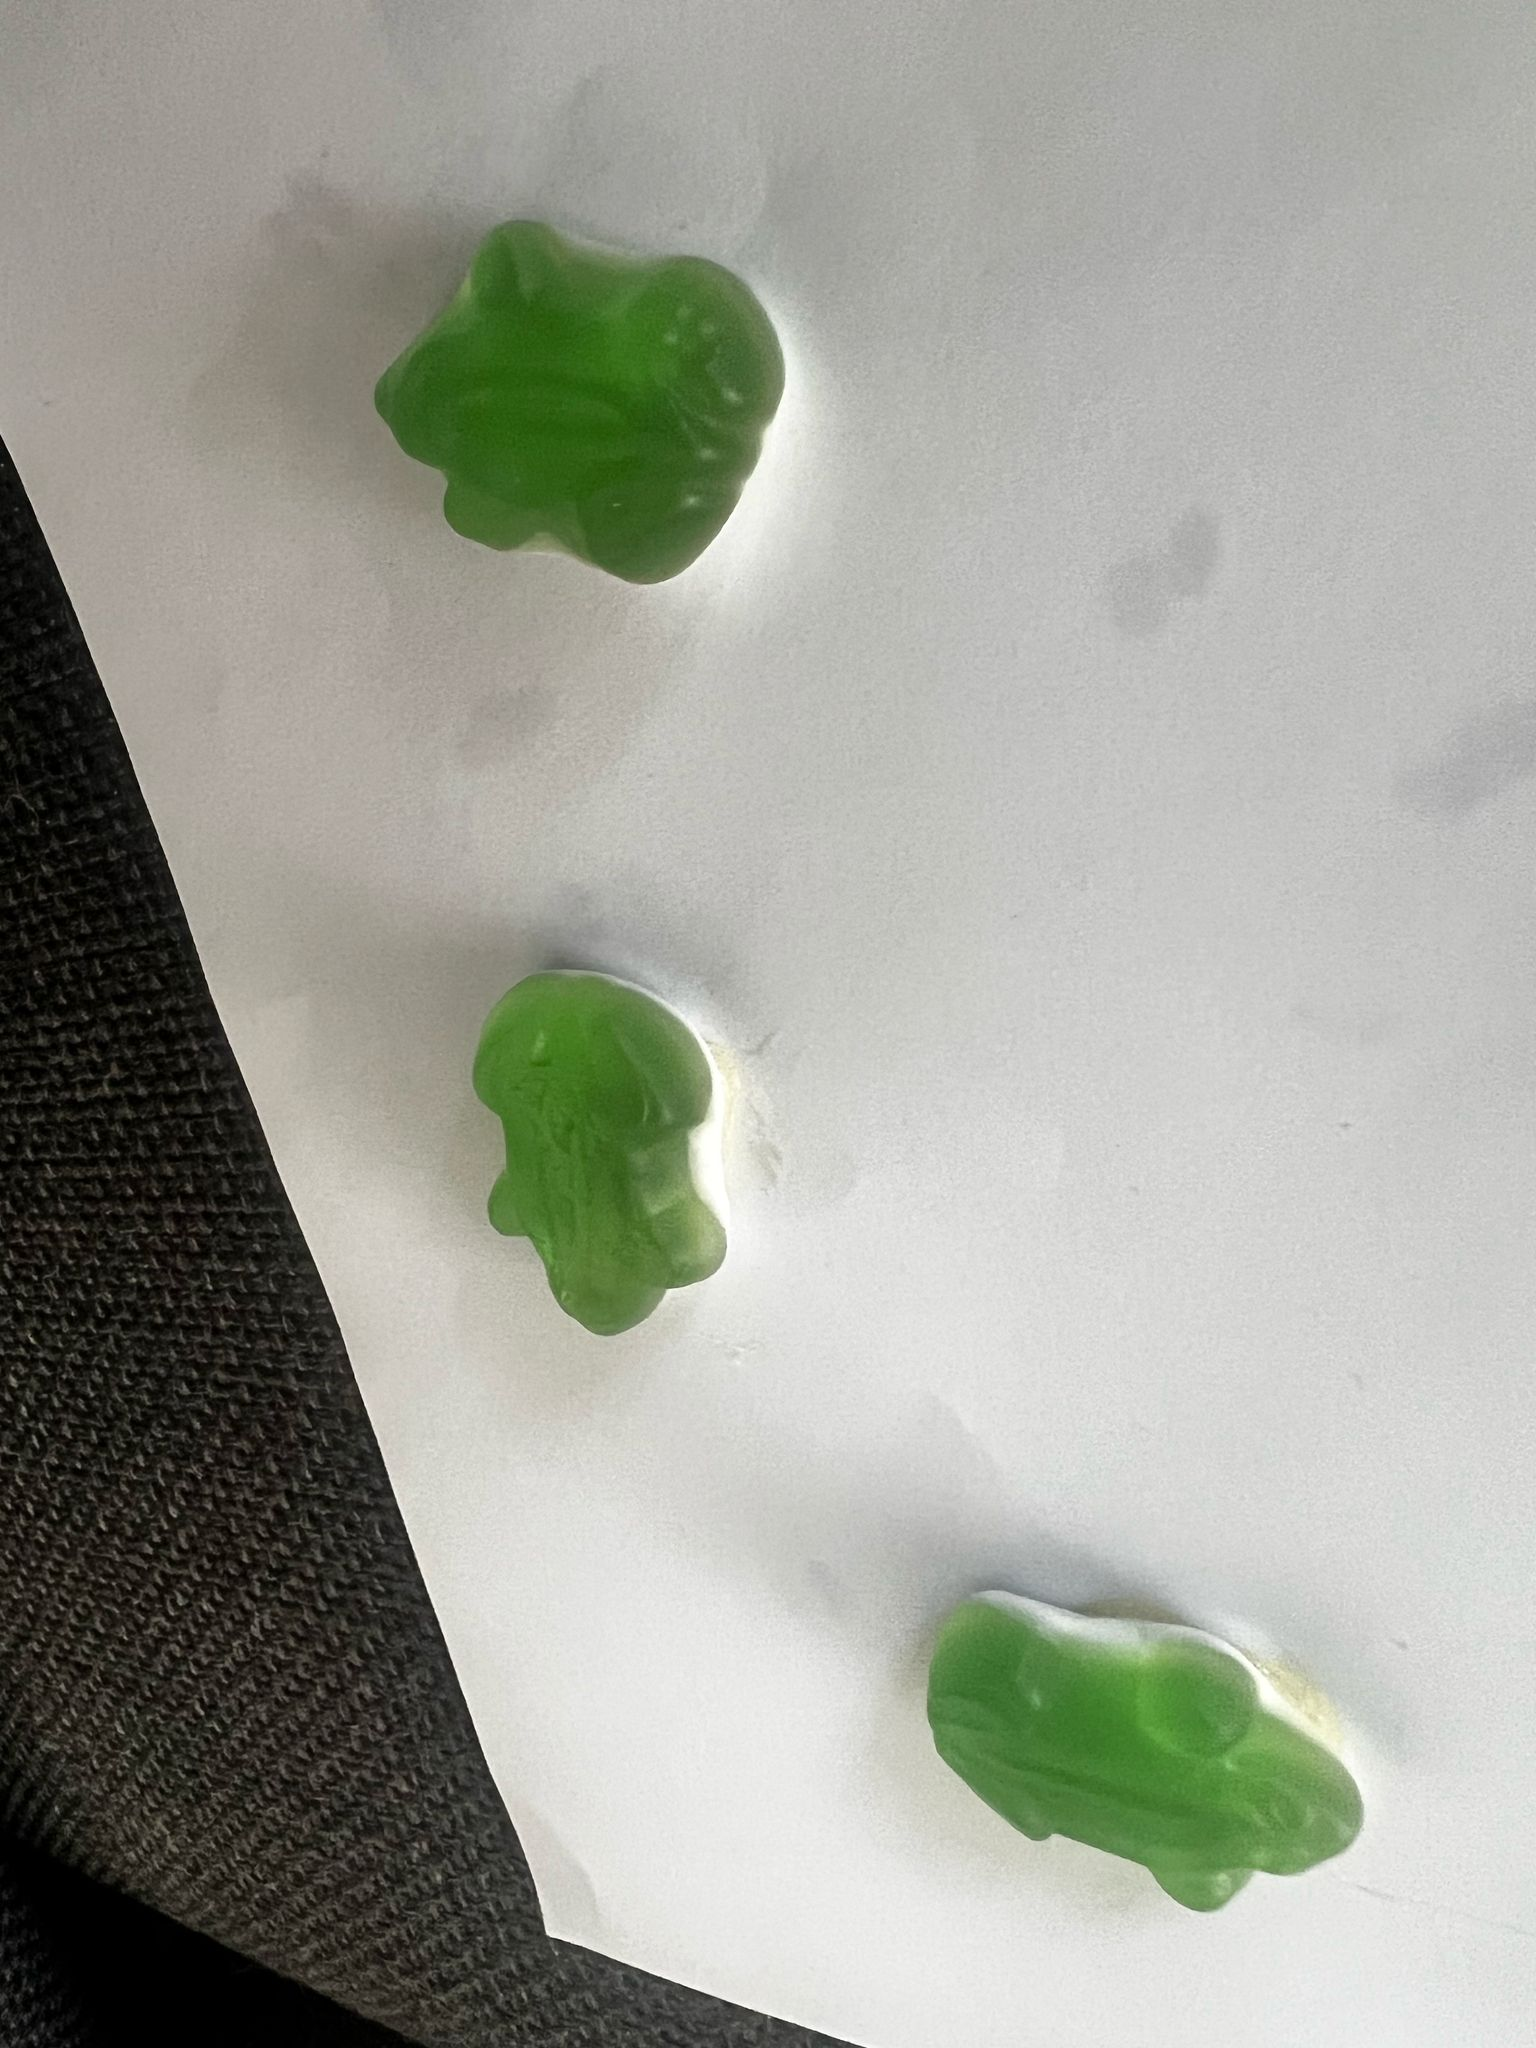frog: (361, 213, 794, 593), (913, 1579, 1373, 1919), (461, 966, 745, 1350)
